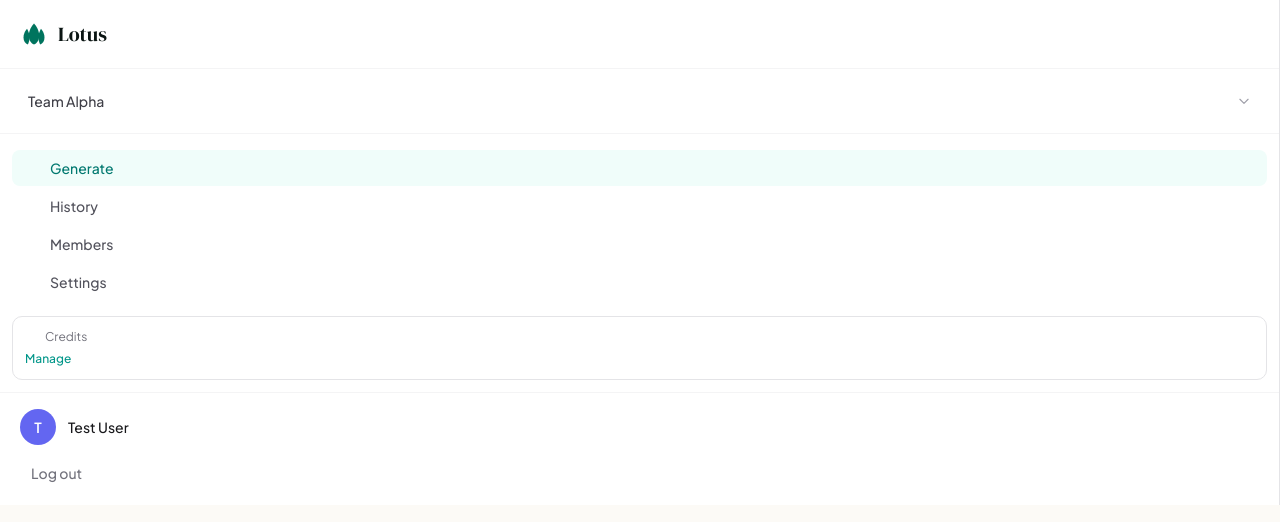
Sidebar › team switcher › shows all teams in dropdown with current team highlighted
Click the button "Team Alpha".
click(66, 101)  # box [20,85,1259,117]
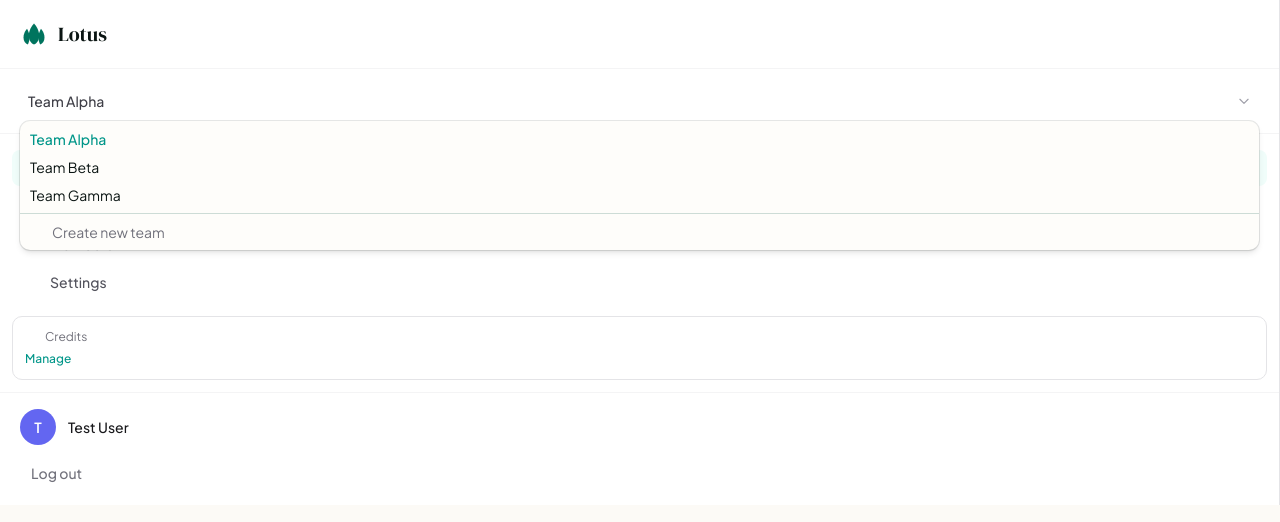
expect the menu item "Team Alpha" is shown: met, box [30,130,106,148]
expect the menu item "Team Beta" is shown: met, box [30,158,99,176]
expect the menu item "Team Gamma" is shown: met, box [30,186,121,204]
